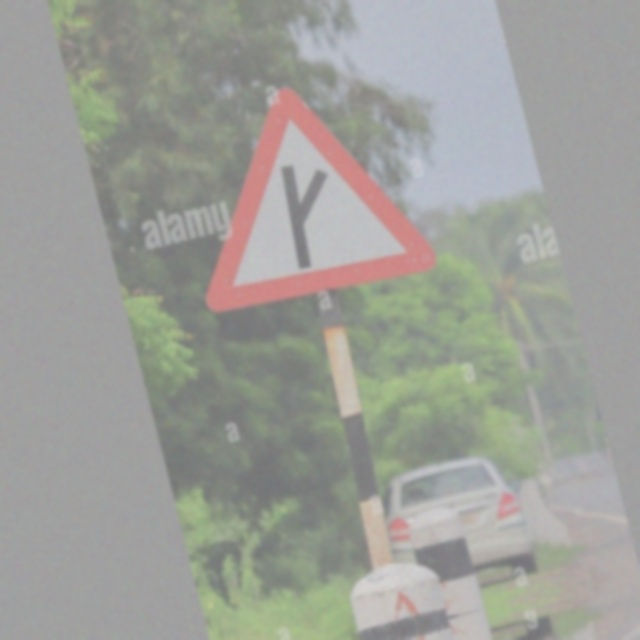Y_Intersection: (159, 56, 450, 330)
